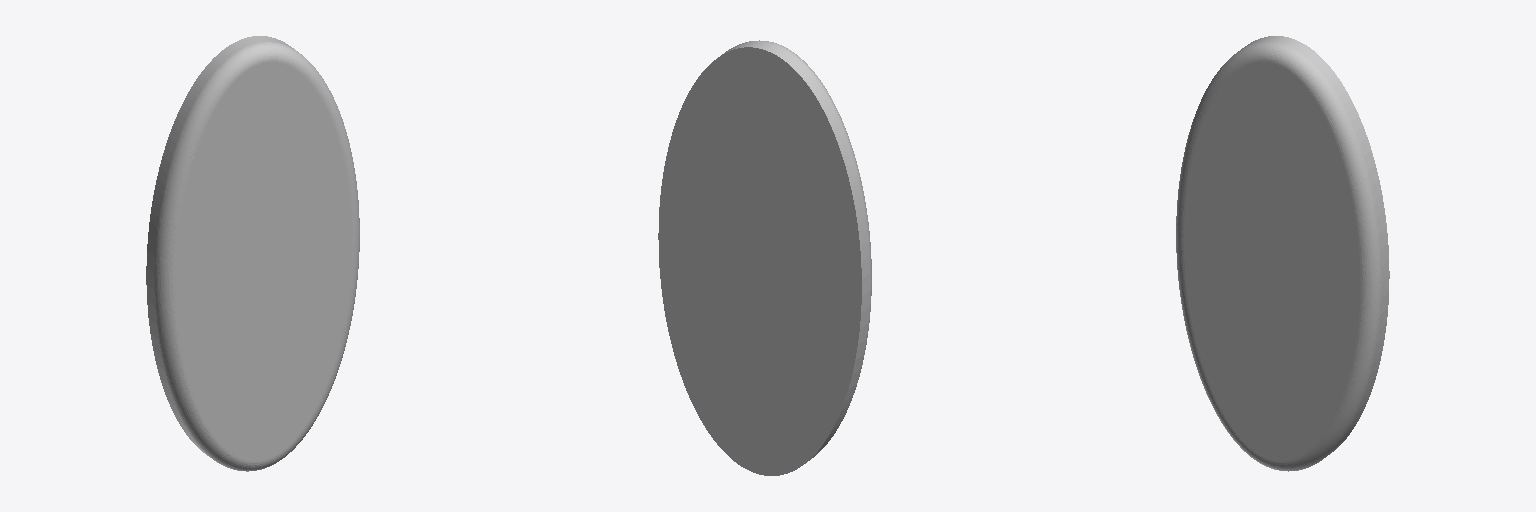
3 views of the same model, side by side, from view 1: azimuth 30°, elevation 25°; view 2: azimuth 150°, elevation 25°; view 3: azimuth 330°, elevation 25° (orthographic).
Parts seen in each view (by area): view 1: base_30x60; view 2: base_30x60; view 3: base_30x60.
Boxes of the visible parts, box(x1,y1,x2,y2) form: base_30x60: box(146, 36, 359, 471); base_30x60: box(658, 40, 871, 475); base_30x60: box(1176, 36, 1389, 471).
Size of the model in its own units: 29.99 by 60 by 4.